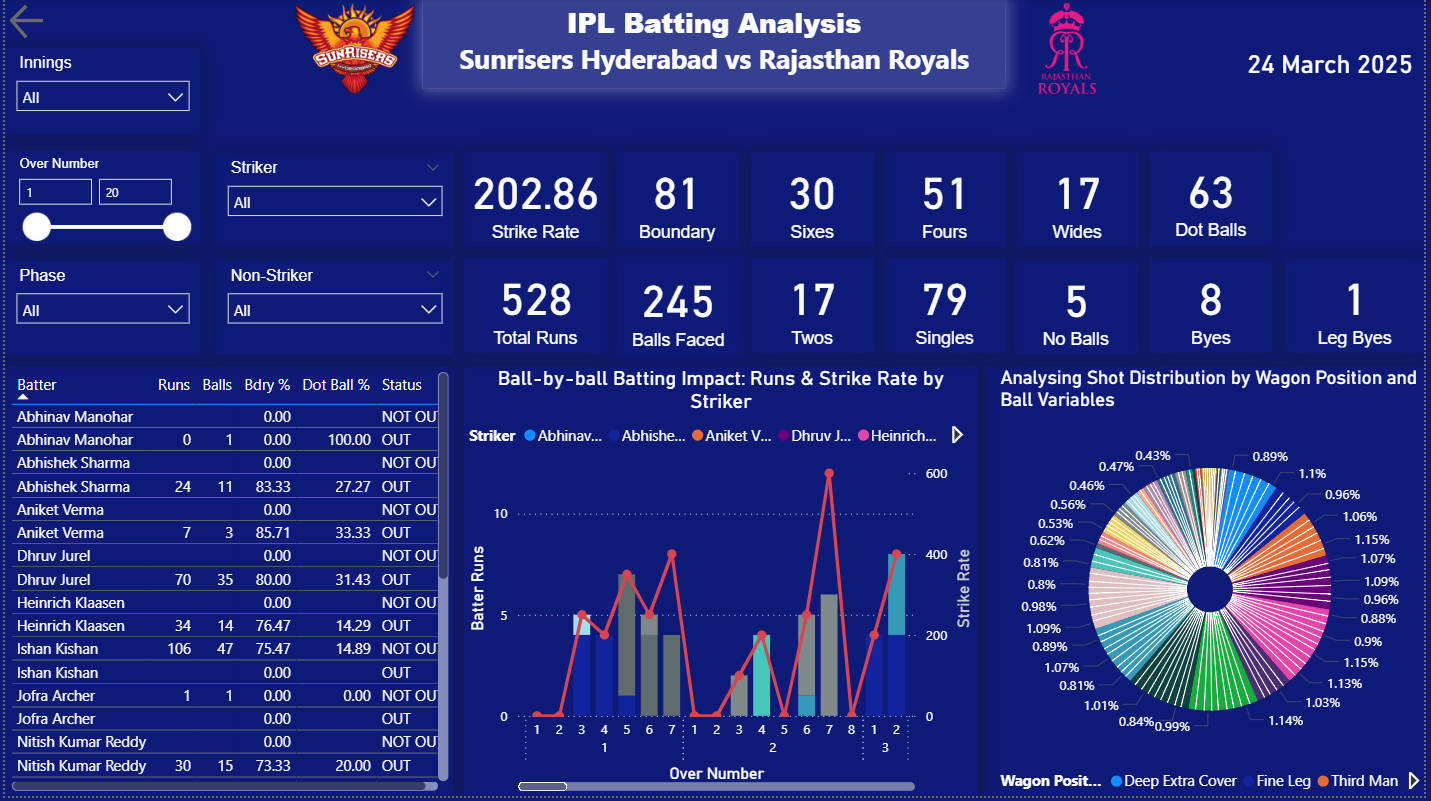

The dashboard page shown, as its layout file describes it:
{"tool":"powerbi","page":{"name":"Batting Analysis","canvas":[1280,720],"ordinal":2},"visuals":[{"type":"tableEx","fields":{"Values":["Cricket Data.Striker","Sum(Cricket Data.Batter Runs)","Cricket Data.Balls Faced","Cricket Data.Boundary %","Cricket Data.Dot Ball % (Batting)","Striker Status.Status"]},"box":[0,332.6,404.8,387.6],"z":0},{"type":"donutChart","title":"Analysing Shot Distribution by Wagon Position and Ball Variables","fields":{"Category":["Cricket Data.Wagon Position"],"Series":["Cricket Data.Striker"],"Y":["Avg(Cricket Data.Shot Magnitude)"]},"box":[882.9,332.6,397.4,387.6],"z":1000},{"type":"card","fields":{"Values":["Cricket Data.Strike Rate"]},"box":[413.3,138.2,130,85.6],"z":2000},{"type":"lineStackedColumnComboChart","title":"Ball-by-ball Batting Impact: Runs & Strike Rate by Striker","fields":{"Category":["Cricket Data.Over Number","Cricket Data.Over Ball","Cricket Data.Bowler","Cricket Data.Shot Type"],"Series":["Cricket Data.Striker"],"Y2":["Cricket Data.Strike Rate"],"Y":["Sum(Cricket Data.Batter Runs)"]},"box":[413.8,332.5,463.8,387.5],"z":3000},{"type":"textbox","box":[376.6,0,525.8,81.9],"z":4000},{"type":"slicer","fields":{"Values":["Cricket Data.Innings"]},"box":[0,45.2,176.1,78.3],"z":5000},{"type":"slicer","fields":{"Values":["Cricket Data.Over Number"]},"box":[0,137.9,176.1,84.6],"z":6000},{"type":"slicer","fields":{"Values":["Cricket Data.Striker"]},"box":[190.8,139.4,214,85],"z":7000},{"type":"slicer","fields":{"Values":["Cricket Data.Phase"]},"box":[0,237.2,176.1,85.6],"z":8000},{"type":"slicer","fields":{"Values":["Cricket Data.Non-Striker"]},"box":[190.8,237.2,214,85],"z":9000},{"type":"card","fields":{"Values":["Sum(Cricket Data.No Balls)"]},"box":[910.3,235.3,110.1,85.6],"z":10000},{"type":"card","fields":{"Values":["Sum(Cricket Data.Wides)"]},"box":[912.2,138.2,110.1,85.6],"z":11000},{"type":"card","fields":{"Values":["Sum(Cricket Data.Boundary)"]},"box":[551.5,138.2,110.1,85.6],"z":12000},{"type":"card","fields":{"Values":["Cricket Data.Fours"]},"box":[792.4,138.2,110.1,85.6],"z":13000},{"type":"card","fields":{"Values":["Cricket Data.Sixes"]},"box":[672.6,138.2,110.1,85.6],"z":14000},{"type":"card","fields":{"Values":["Cricket Data.Balls Faced"]},"box":[551.7,236.3,110.1,85.6],"z":15000},{"type":"actionButton","box":[0,1.2,44,40.4],"z":16000},{"type":"card","fields":{"Values":["Min(Cricket Data.Date)"]},"box":[1110,42.8,170,33],"z":17000},{"type":"card","fields":{"Values":["Cricket Data.Singles"]},"box":[792.4,234.8,110.1,85.6],"z":18000},{"type":"card","fields":{"Values":["Cricket Data.Twos"]},"box":[672.6,234.8,110.1,85.6],"z":19000},{"type":"card","fields":{"Values":["Sum(Cricket Data.Leg Byes)"]},"box":[1154.4,234.8,126,85.6],"z":20000},{"type":"card","fields":{"Values":["Sum(Cricket Data.Byes)"]},"box":[1032.1,234.8,110.1,85.6],"z":21000},{"type":"card","fields":{"Values":["Cricket Data.Dot Balls"]},"box":[1032.1,137,110.1,85.6],"z":22000},{"type":"card","fields":{"Values":["Cricket Data.Total Runs"]},"box":[413.3,234.8,129.6,85.6],"z":23000},{"type":"image","box":[254.7,0,121.7,91.3],"z":24000},{"type":"image","box":[910.7,0,93.6,91.3],"z":25000}]}

Visuals, with their boxes in screenshot pixels (x1, y1, x2, y2), scaled from the page's 1280x720 canvas onto the 1431x801 screenshot:
tableEx - Cricket Data.Striker x Sum(Cricket Data.Batter Runs): (0,370,453,800)
"Analysing Shot Distribution by Wagon Position and Ball Variables" donutChart: (987,370,1430,800)
card - Cricket Data.Strike Rate: (462,154,607,249)
"Ball-by-ball Batting Impact: Runs & Strike Rate by Striker" lineStackedColumnComboChart: (463,370,981,800)
textbox: (421,0,1009,91)
slicer - Cricket Data.Innings: (0,50,197,137)
slicer - Cricket Data.Over Number: (0,153,197,248)
slicer - Cricket Data.Striker: (213,155,453,250)
slicer - Cricket Data.Phase: (0,264,197,359)
slicer - Cricket Data.Non-Striker: (213,264,453,358)
card - Sum(Cricket Data.No Balls): (1018,262,1141,357)
card - Sum(Cricket Data.Wides): (1020,154,1143,249)
card - Sum(Cricket Data.Boundary): (617,154,740,249)
card - Cricket Data.Fours: (886,154,1009,249)
card - Cricket Data.Sixes: (752,154,875,249)
card - Cricket Data.Balls Faced: (617,263,740,358)
actionButton: (0,1,49,46)
card - Min(Cricket Data.Date): (1241,48,1430,84)
card - Cricket Data.Singles: (886,261,1009,356)
card - Cricket Data.Twos: (752,261,875,356)
card - Sum(Cricket Data.Leg Byes): (1291,261,1430,356)
card - Sum(Cricket Data.Byes): (1154,261,1277,356)
card - Cricket Data.Dot Balls: (1154,152,1277,248)
card - Cricket Data.Total Runs: (462,261,607,356)
image: (285,0,421,102)
image: (1018,0,1123,102)
